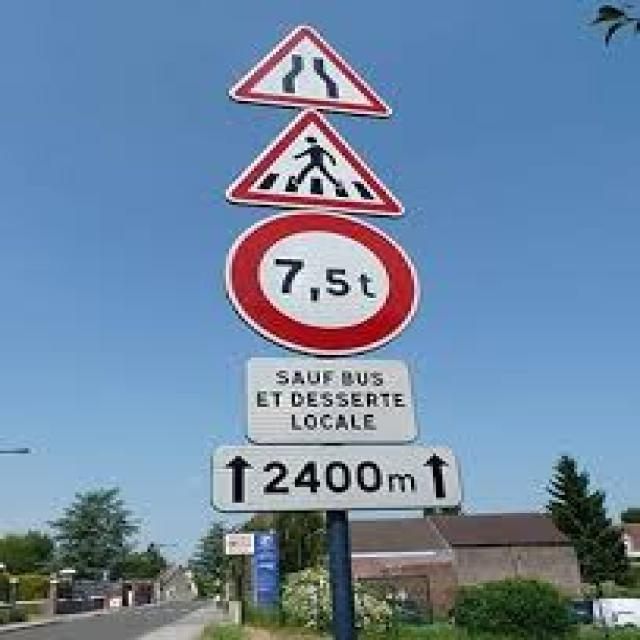danger: (225, 104, 411, 215), (224, 22, 396, 115)
forbidden: (223, 212, 425, 355)
